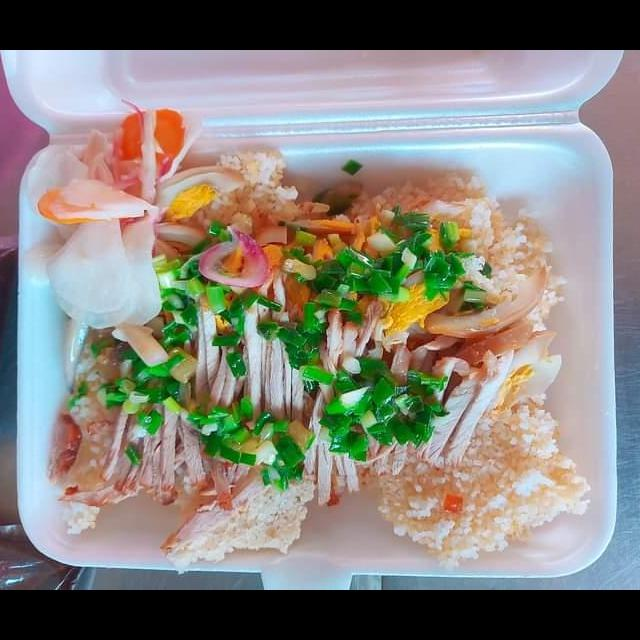com: (369, 396, 599, 571), (342, 168, 573, 340), (44, 320, 152, 543), (161, 461, 321, 578)
dua chua: (33, 96, 211, 333)
suon: (95, 268, 517, 517)
trung: (348, 262, 457, 346), (142, 164, 254, 232)
